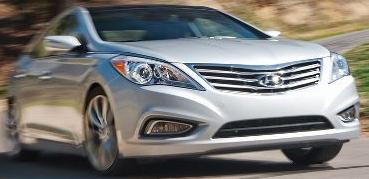front_view: (107, 44, 362, 159)
headlight: (106, 49, 206, 95)
